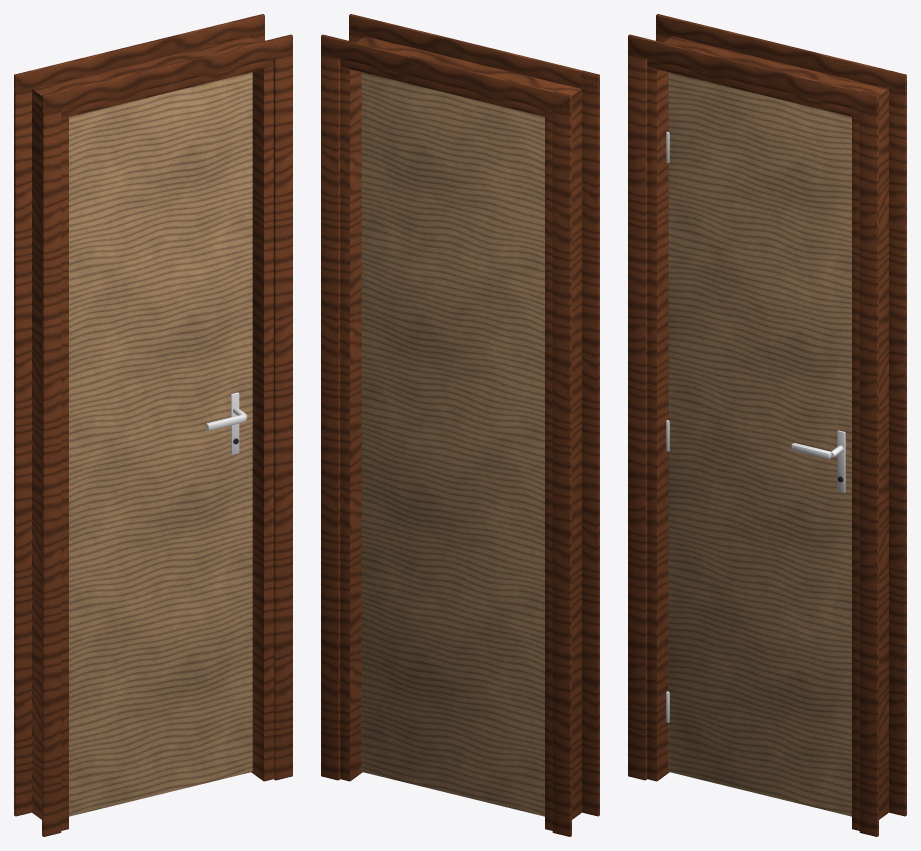
The model's file is ESQ-PMD-001.glb.
3 renders of one model, left to right at view 1: azimuth 30°, elevation 25°; view 2: azimuth 150°, elevation 25°; view 3: azimuth 330°, elevation 25°, orthographic.
Parts seen in each view (by area): view 1: ESQ-PMD-001_folha, ESQ-PMD-001_batente_d, ESQ-PMD-001_guarnicao_e-1, ESQ-PMD-001_guarnicao_d-1, ESQ-PMD-001_guarnicao_e1, ESQ-PMD-001_batente_e, ESQ-PMD-001_guarnicao_c-1, ESQ-PMD-001_guarnicao_c1, ESQ-PMD-001_batente_c; view 2: ESQ-PMD-001_folha, ESQ-PMD-001_batente_d, ESQ-PMD-001_guarnicao_e1, ESQ-PMD-001_guarnicao_d1, ESQ-PMD-001_guarnicao_e-1, ESQ-PMD-001_batente_e, ESQ-PMD-001_guarnicao_c1, ESQ-PMD-001_guarnicao_c-1, ESQ-PMD-001_batente_c; view 3: ESQ-PMD-001_folha, ESQ-PMD-001_batente_e, ESQ-PMD-001_guarnicao_d-1, ESQ-PMD-001_guarnicao_e-1, ESQ-PMD-001_guarnicao_d1, ESQ-PMD-001_batente_d, ESQ-PMD-001_guarnicao_c-1, ESQ-PMD-001_guarnicao_c1, ESQ-PMD-001_batente_c.
Boxes of the visible parts, x1,y1,x2,y2 form: ESQ-PMD-001_folha: (69, 72, 252, 816); ESQ-PMD-001_batente_d: (247, 36, 273, 781); ESQ-PMD-001_guarnicao_e-1: (42, 91, 61, 836); ESQ-PMD-001_guarnicao_d-1: (273, 34, 292, 780); ESQ-PMD-001_guarnicao_e1: (14, 70, 32, 816); ESQ-PMD-001_batente_e: (32, 87, 68, 830); ESQ-PMD-001_guarnicao_c-1: (42, 36, 292, 113); ESQ-PMD-001_guarnicao_c1: (14, 15, 264, 93); ESQ-PMD-001_batente_c: (32, 36, 273, 118); ESQ-PMD-001_folha: (361, 72, 544, 816); ESQ-PMD-001_batente_d: (340, 37, 363, 781); ESQ-PMD-001_guarnicao_e1: (552, 91, 571, 836); ESQ-PMD-001_guarnicao_d1: (321, 34, 340, 780); ESQ-PMD-001_guarnicao_e-1: (581, 70, 599, 816); ESQ-PMD-001_batente_e: (545, 87, 581, 830); ESQ-PMD-001_guarnicao_c1: (321, 36, 571, 113); ESQ-PMD-001_guarnicao_c-1: (349, 15, 599, 93); ESQ-PMD-001_batente_c: (340, 36, 581, 117); ESQ-PMD-001_folha: (668, 72, 851, 816); ESQ-PMD-001_batente_e: (647, 36, 673, 781); ESQ-PMD-001_guarnicao_d-1: (859, 91, 878, 836); ESQ-PMD-001_guarnicao_e-1: (628, 34, 647, 780); ESQ-PMD-001_guarnicao_d1: (888, 70, 906, 816); ESQ-PMD-001_batente_d: (852, 87, 888, 830); ESQ-PMD-001_guarnicao_c-1: (628, 36, 878, 113); ESQ-PMD-001_guarnicao_c1: (656, 15, 906, 93); ESQ-PMD-001_batente_c: (647, 36, 887, 118).
Bounding box in the file's own units: 0.77 × 2.18 × 0.1655.
Materials: 4 (2 with a texture image).
